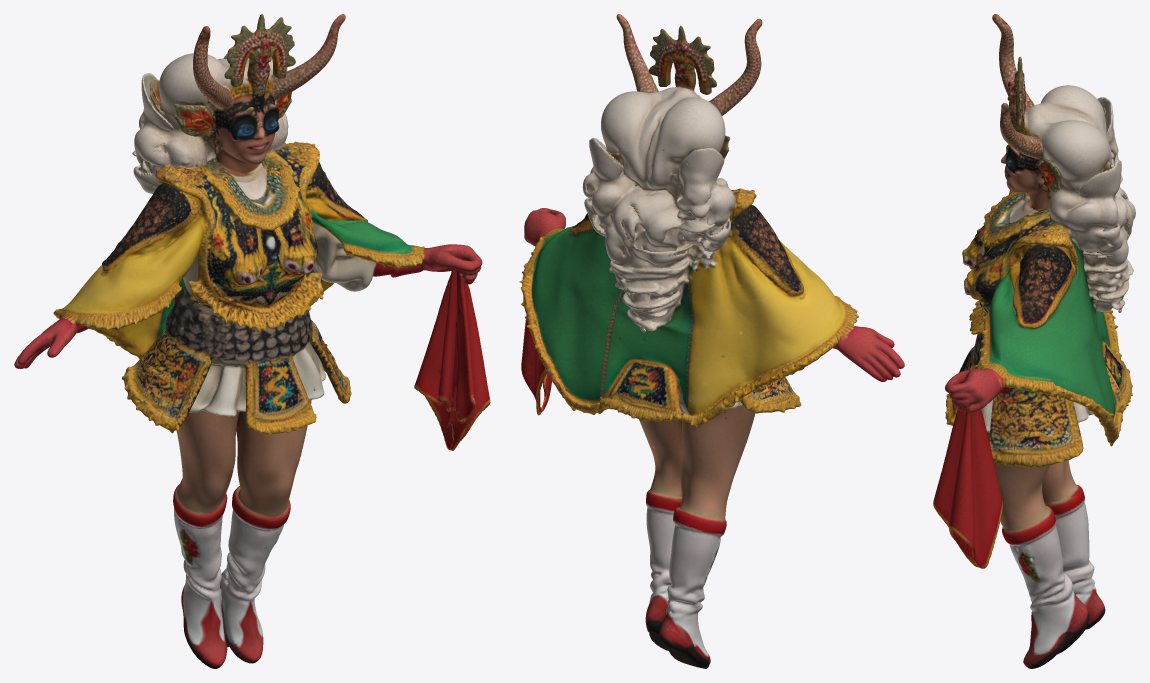
File: diabla.glb
3 views of the same model, side by side, from view 1: azimuth 30°, elevation 25°; view 2: azimuth 150°, elevation 25°; view 3: azimuth 270°, elevation 25° (orthographic). The views are drawn at different scales.
Parts seen in each view (by area): view 1: tripo_node_a9f3fb26-c573-48aa-8217-fdb1ac01fe2a; view 2: tripo_node_a9f3fb26-c573-48aa-8217-fdb1ac01fe2a; view 3: tripo_node_a9f3fb26-c573-48aa-8217-fdb1ac01fe2a.
Part boxes in pixels (box(x1,y1,x2,y2)): tripo_node_a9f3fb26-c573-48aa-8217-fdb1ac01fe2a: box(14, 14, 490, 668); tripo_node_a9f3fb26-c573-48aa-8217-fdb1ac01fe2a: box(519, 14, 904, 668); tripo_node_a9f3fb26-c573-48aa-8217-fdb1ac01fe2a: box(933, 14, 1135, 668).
Size of the model in its own units: 0.6796 by 1 by 0.2934.
1 material, 1 textured.
